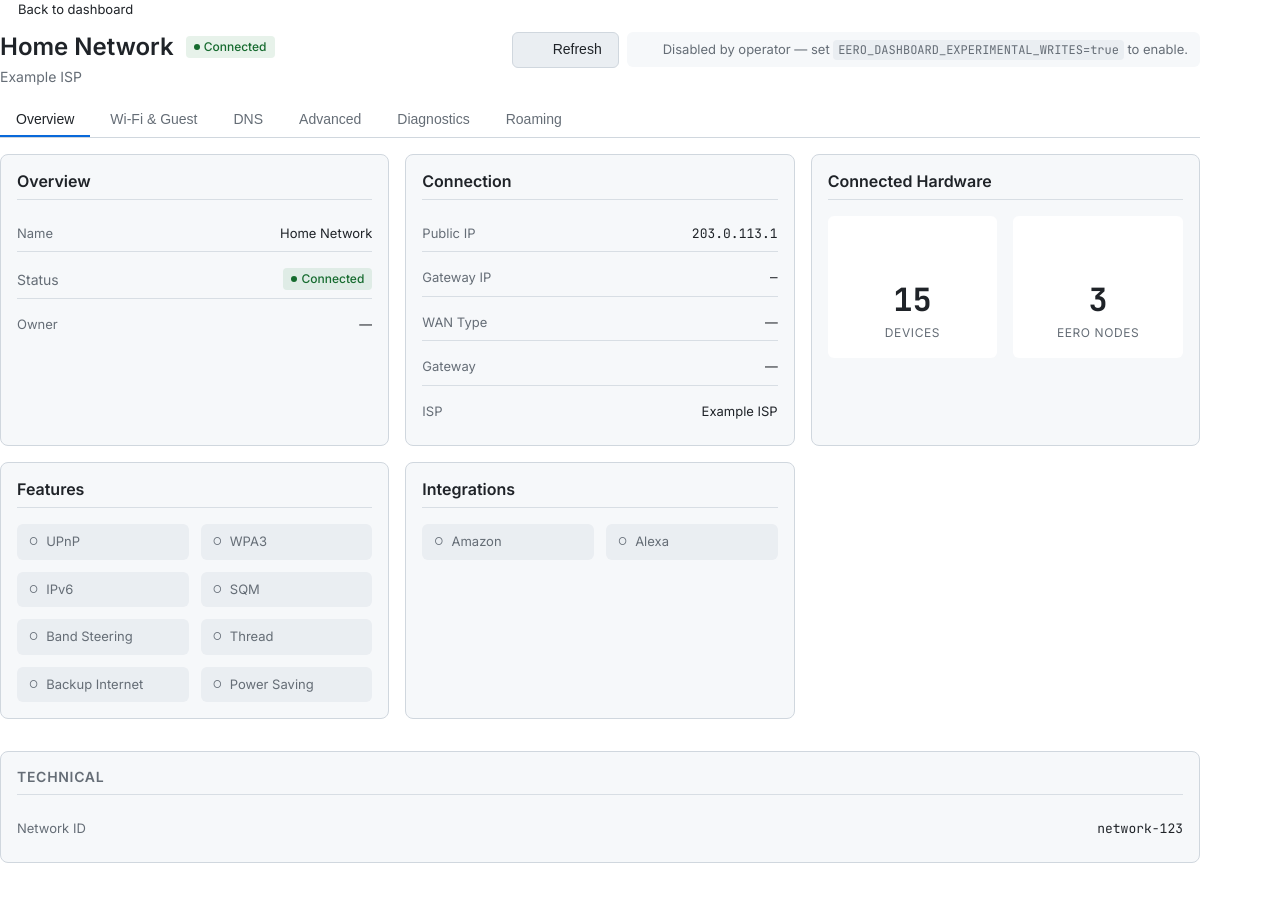
Test: network detail page - diagnostics WAN throughput › shows the note and requests no WAN series in bridge mode
expect the heading "Home Network" is shown: met, box [0,32,174,62]
Click the tab "Diagnostics" at [434, 120], box [381,102,486,136]
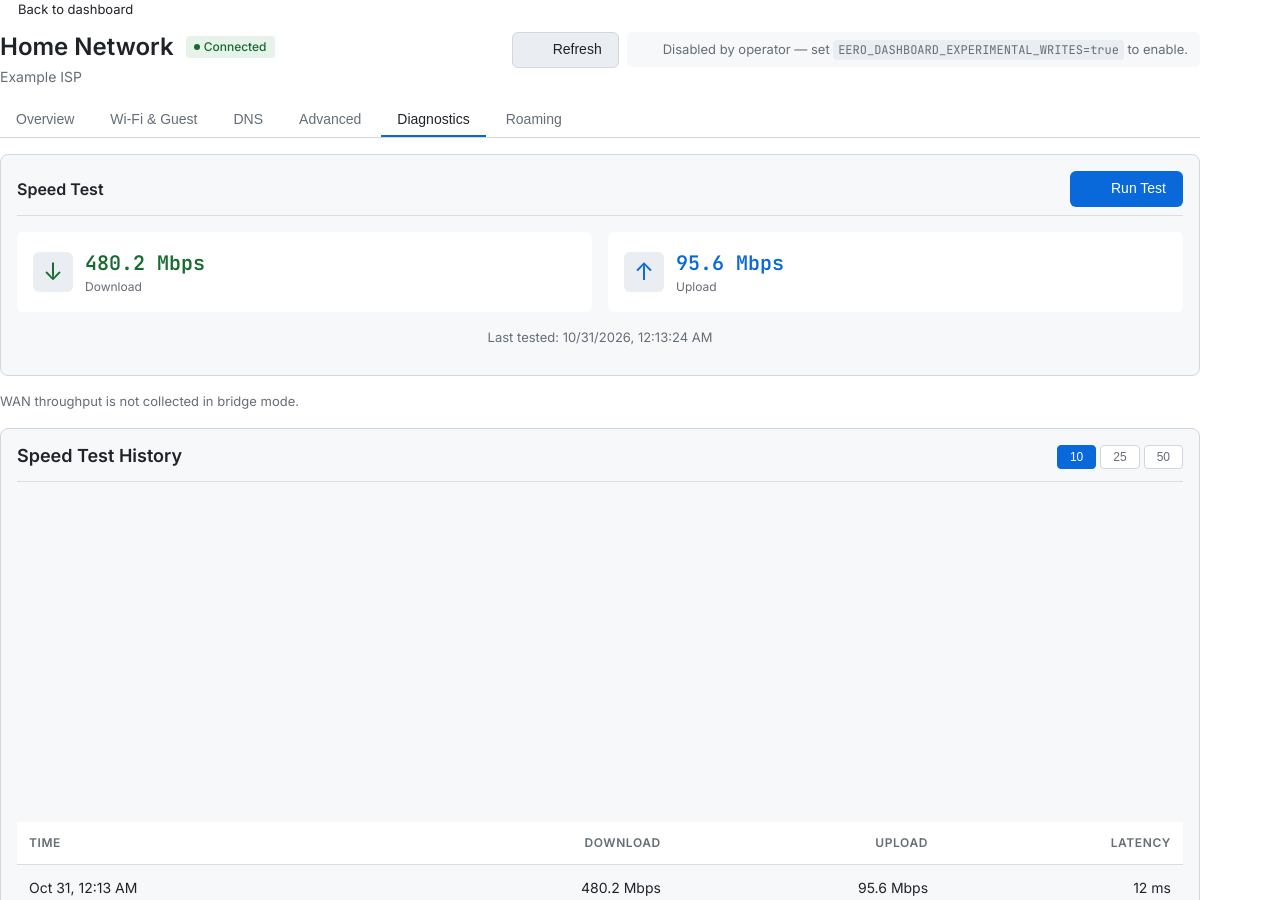
expect the heading "Speed Test History" is shown: met, box [17,445,182,468]
expect the text "WAN throughput is not collected in bridge mode." is shown: met, box [0,393,299,409]
